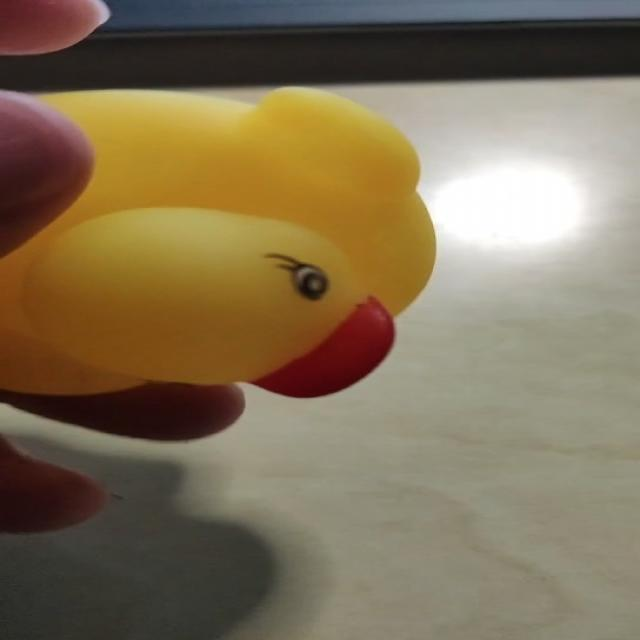rubber-duck: (0, 87, 433, 392)
